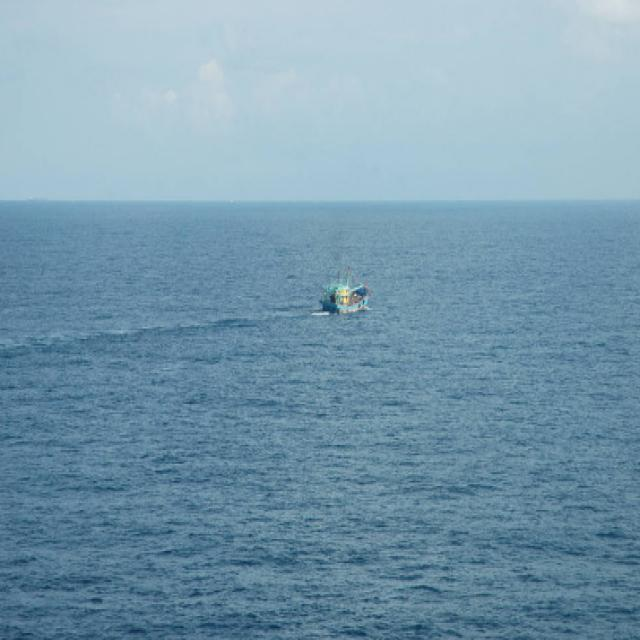fishing boat: (314, 262, 376, 317)
